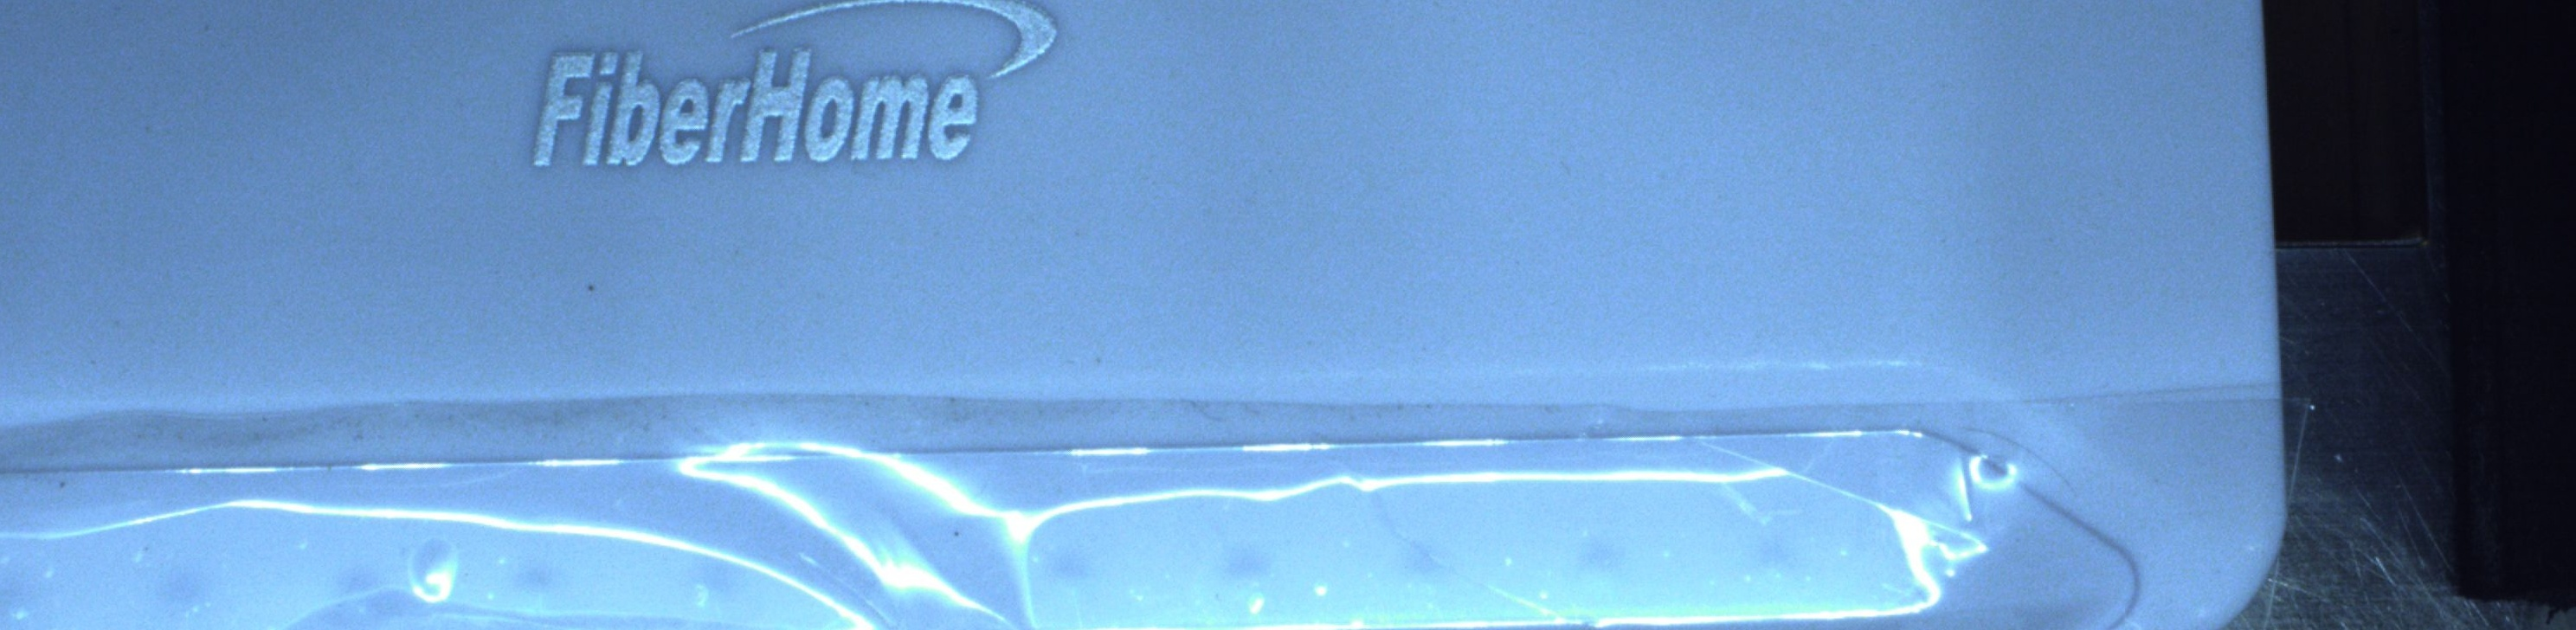AI_FiberHome: (496, 7, 1091, 171)
